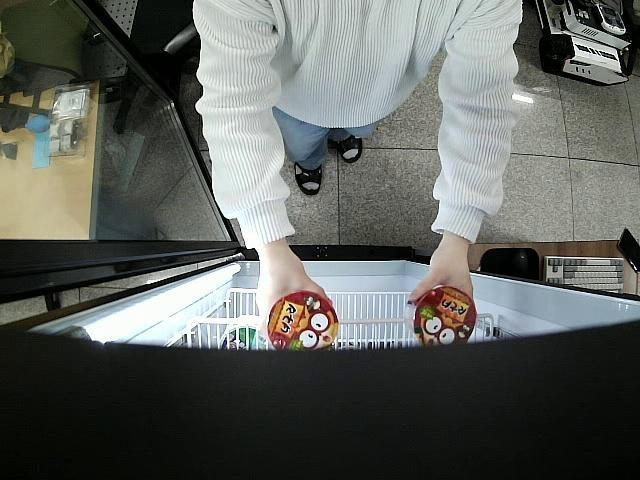06_nuguri_S: (404, 284, 477, 350), (266, 291, 340, 355)
